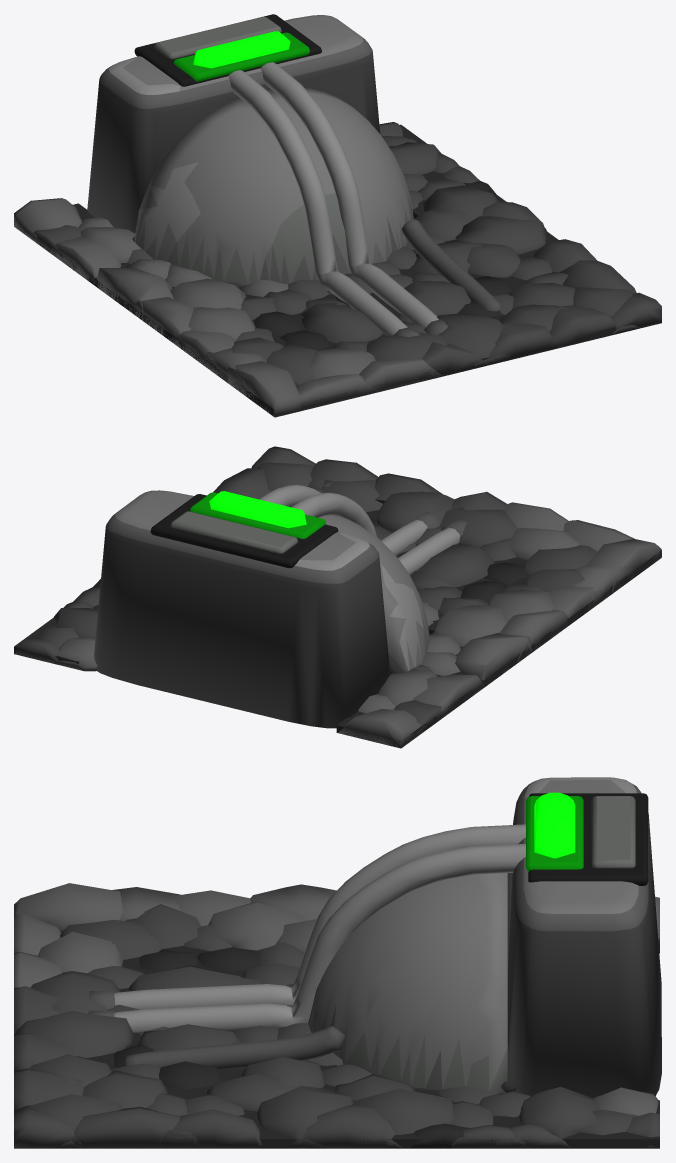
File: green_lamp_bunker.glb
3 views of the same model, one above another, from view 1: azimuth 30°, elevation 25°; view 2: azimuth 150°, elevation 25°; view 3: azimuth 270°, elevation 25° (orthographic). The views are drawn at different scales.
Visible parts, largest first — view 1: front, tower, pipe0, pipe1, rubble_base, rubble_2, rubble_10, pipe2, rubble_55, rubble_15, visor_glass, rubble_1 (+39 smaller); view 2: tower, front, visor_frame, rubble_base, pipe0, visor_glass, rubble_1, rubble_5, rubble_55, rubble_6, rubble_15, lamp (+35 smaller); view 3: tower, front, pipe1, pipe0, rubble_base, pipe2, rubble_29, visor_frame, rubble_2, rubble_15, rubble_10, rubble_14 (+50 smaller).
Boxes of the visible parts, x1,y1,x2,y2 form: front: (134,87,413,288); tower: (87,15,380,233); pipe0: (228,70,407,335); pipe1: (260,62,438,326); rubble_base: (14,124,660,416); rubble_2: (225,361,300,417); rubble_10: (455,216,547,254); pipe2: (401,219,501,311); rubble_55: (301,303,383,343); rubble_15: (437,313,510,368); visor_glass: (154,16,281,59); rubble_1: (96,268,173,315); tower: (94,490,390,728); front: (318,515,429,671); visor_frame: (150,494,338,568); rubble_base: (14,510,661,747); pipe0: (291,492,459,574); visor_glass: (170,511,297,553); rubble_1: (455,633,531,684); rubble_5: (338,709,425,748); rubble_55: (417,544,494,587); rubble_6: (431,604,507,646); rubble_15: (377,491,454,531); lamp: (209,491,306,528); tower: (507,777,661,1097); front: (308,873,507,1093); pipe1: (114,844,525,1032); pipe0: (114,824,525,1009); rubble_base: (14,930,659,1148); pipe2: (123,1026,344,1069); rubble_29: (69,1107,198,1148); visor_frame: (528,793,648,885); rubble_2: (14,883,122,930); rubble_15: (15,1011,133,1057); rubble_10: (257,1086,352,1148); rubble_14: (295,1104,403,1148).
Bounding box in the file's own units: 24 × 10.78 × 28.09.
